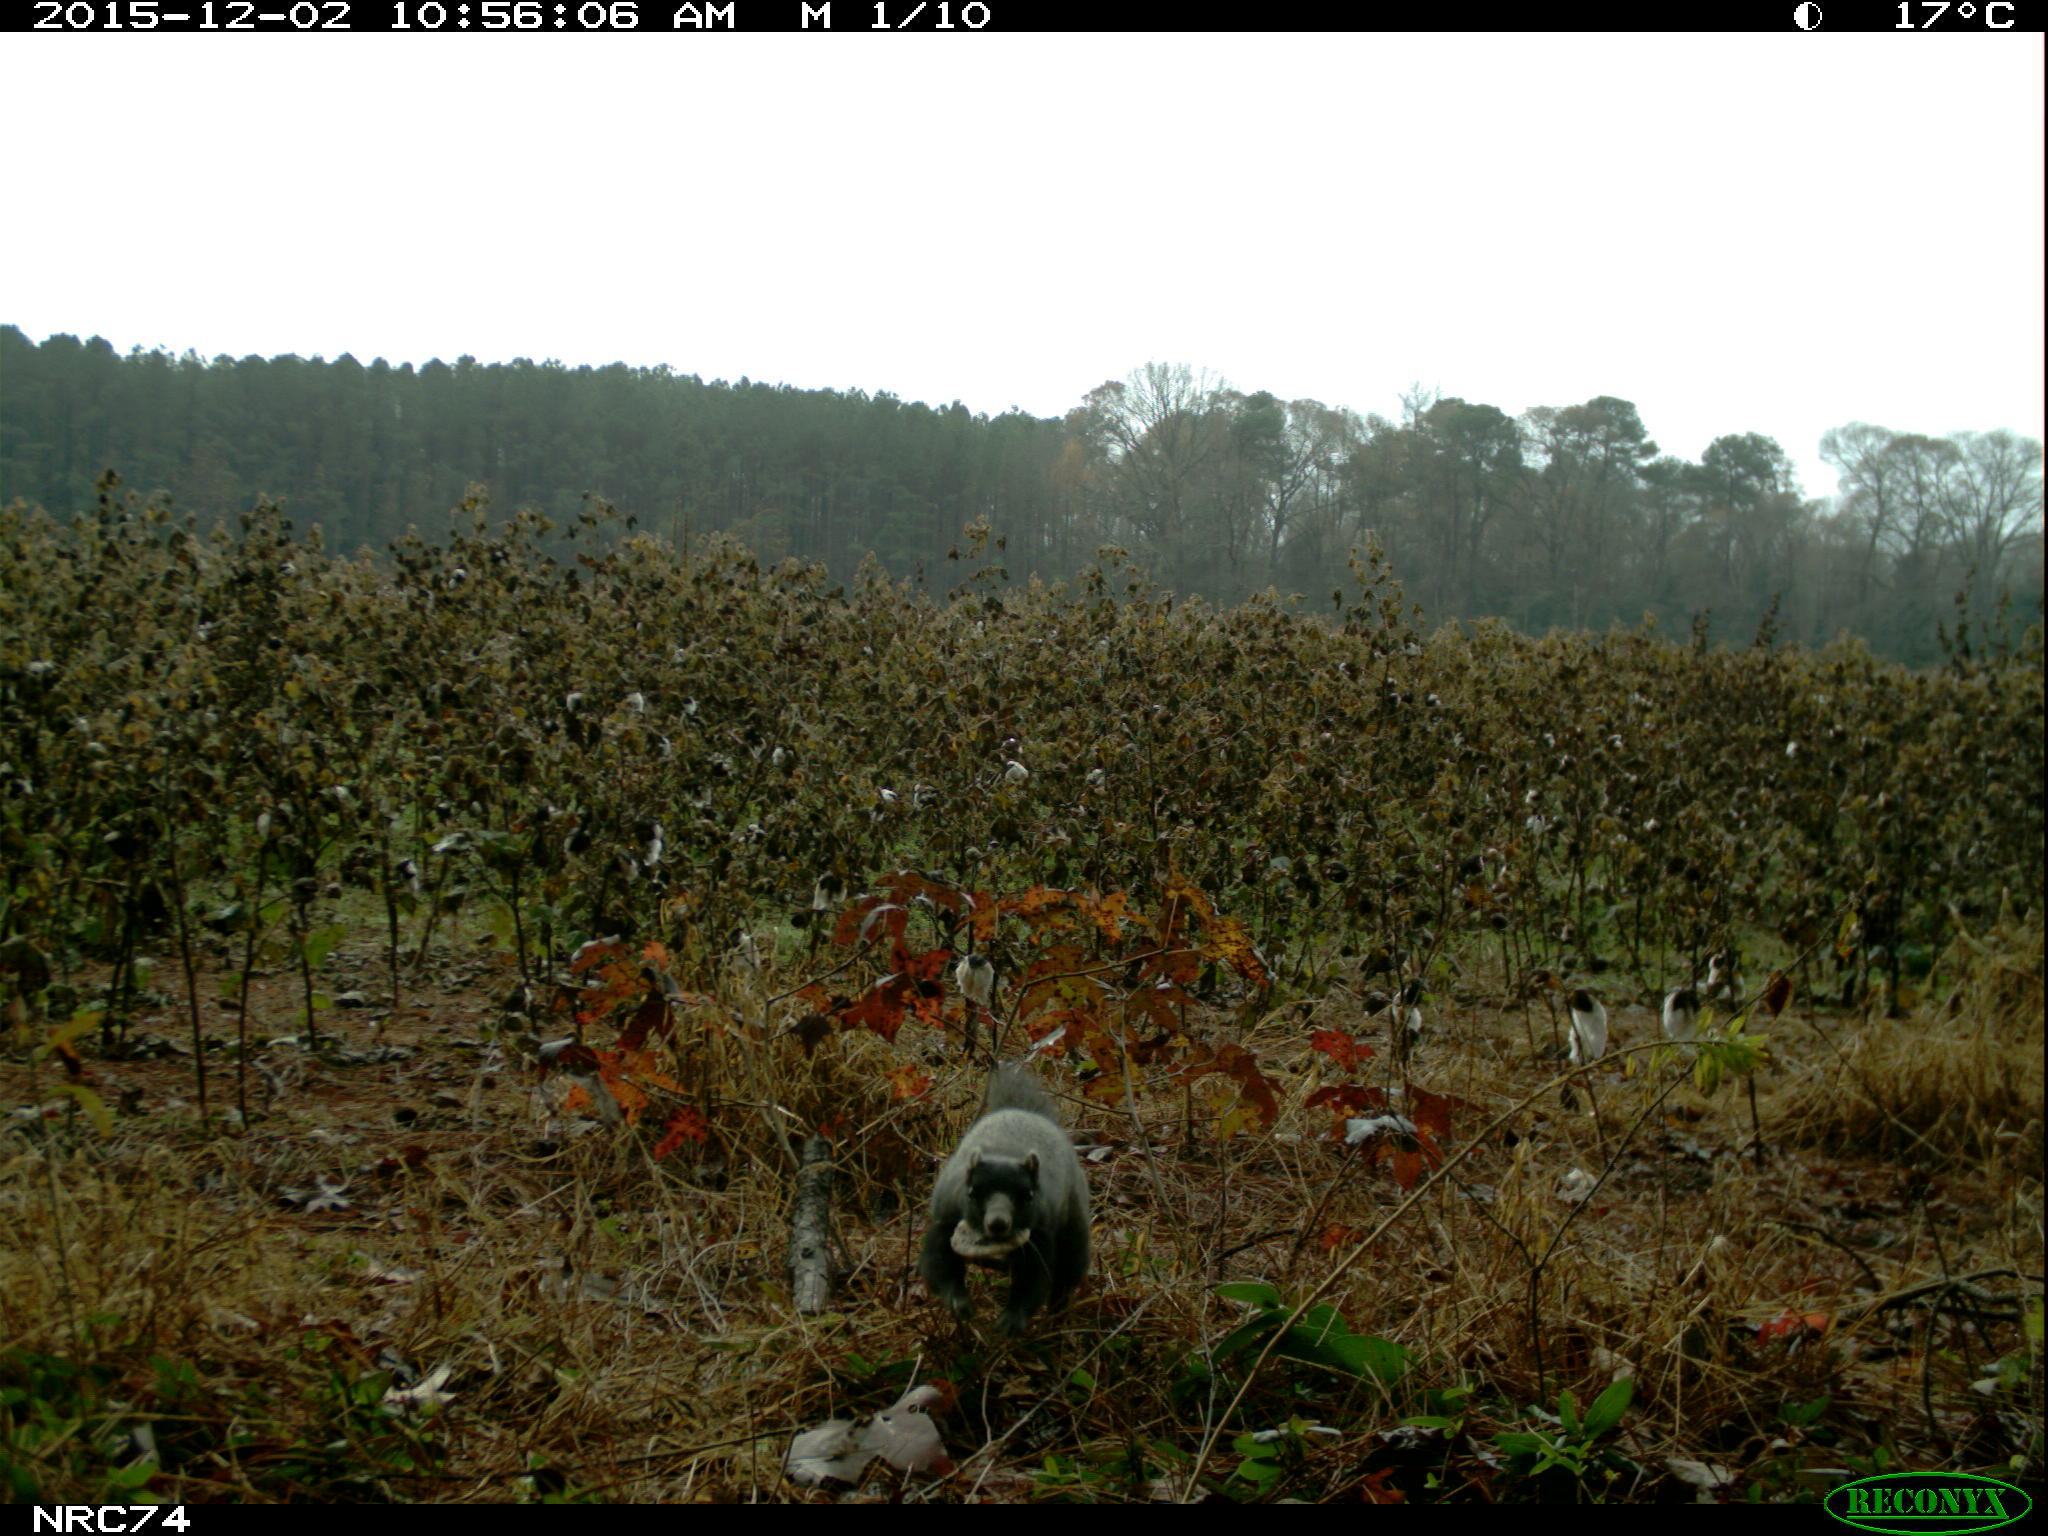Animal: (916, 1068, 1101, 1334)
